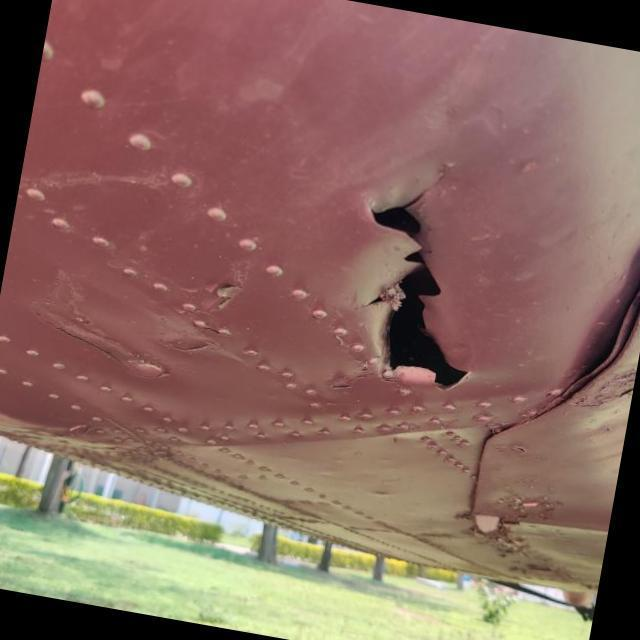Rupture: (322, 138, 516, 410)
